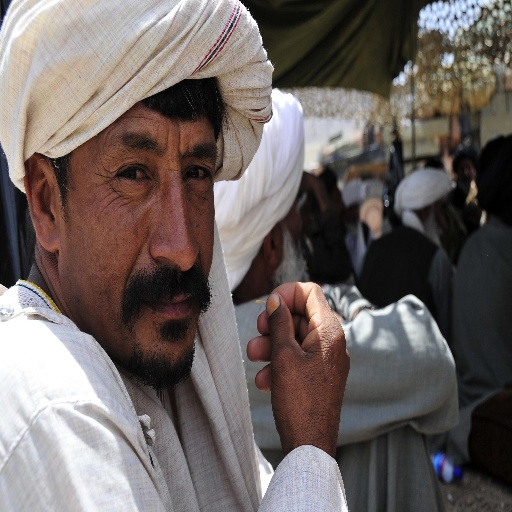hand: (251, 285, 365, 459), (293, 168, 331, 229)
